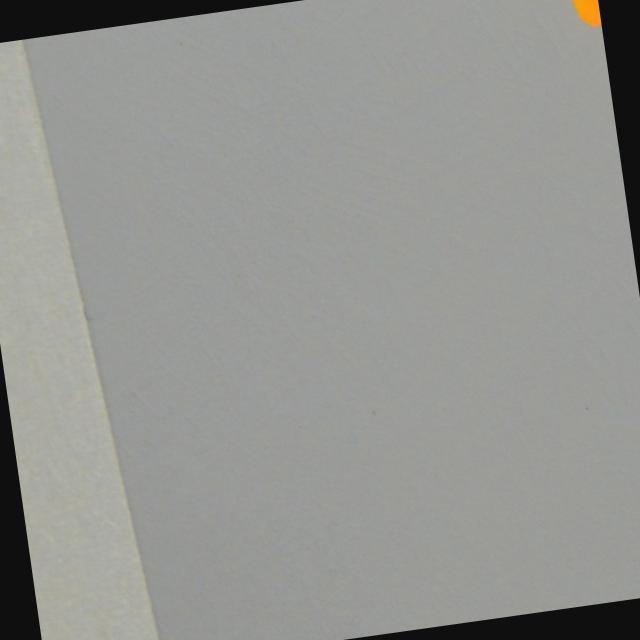dañado: (565, 0, 604, 47)
